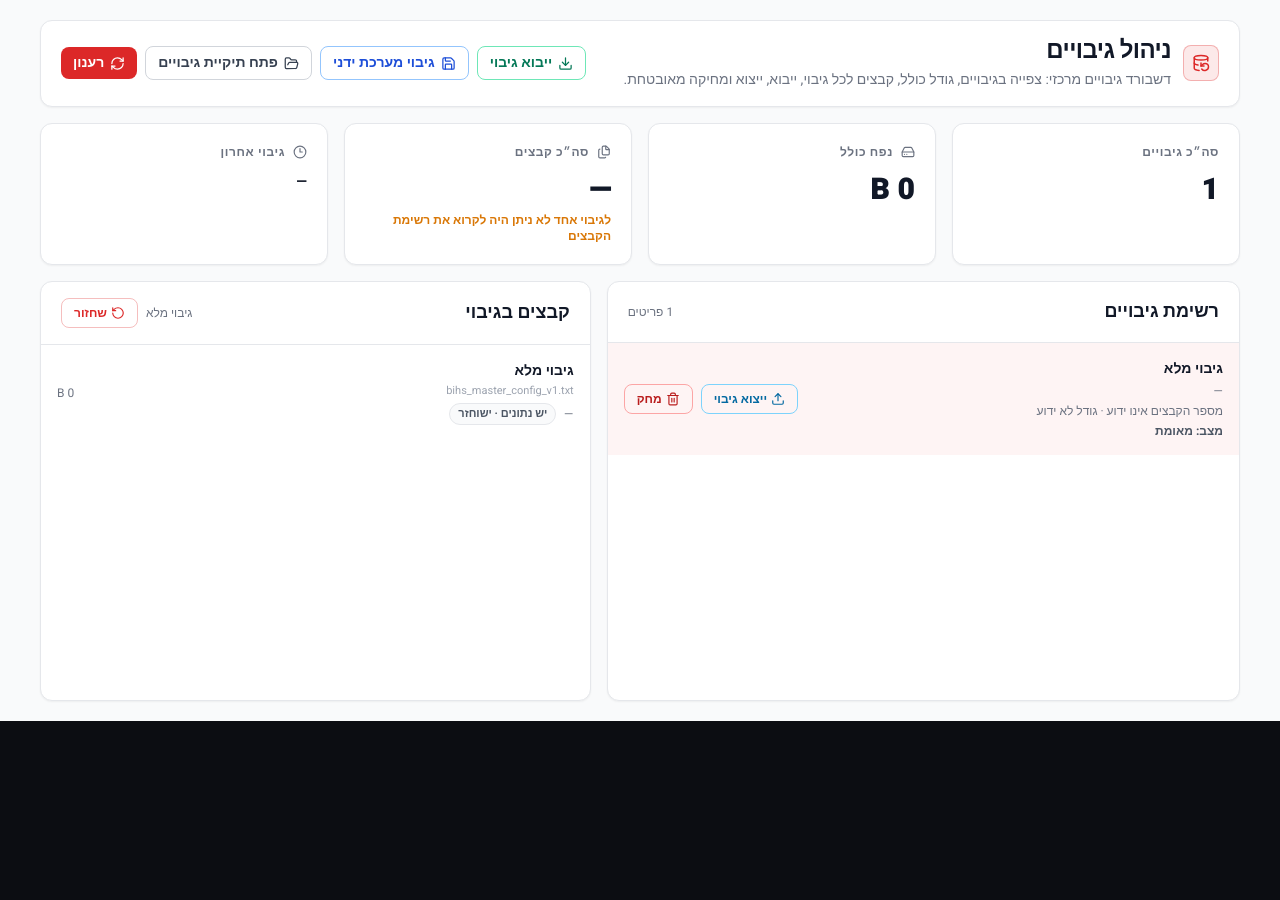
Test: AdminBackupManagement › does not reopen a restore modal after it was closed while payload hydration was pending
Expected: the text "1 פריטים" is shown, [628,304,673,320]
Step 1. Click the button with aria-label "בחר גיבוי מלא" → click(1193, 368), box [608,343,1239,455]
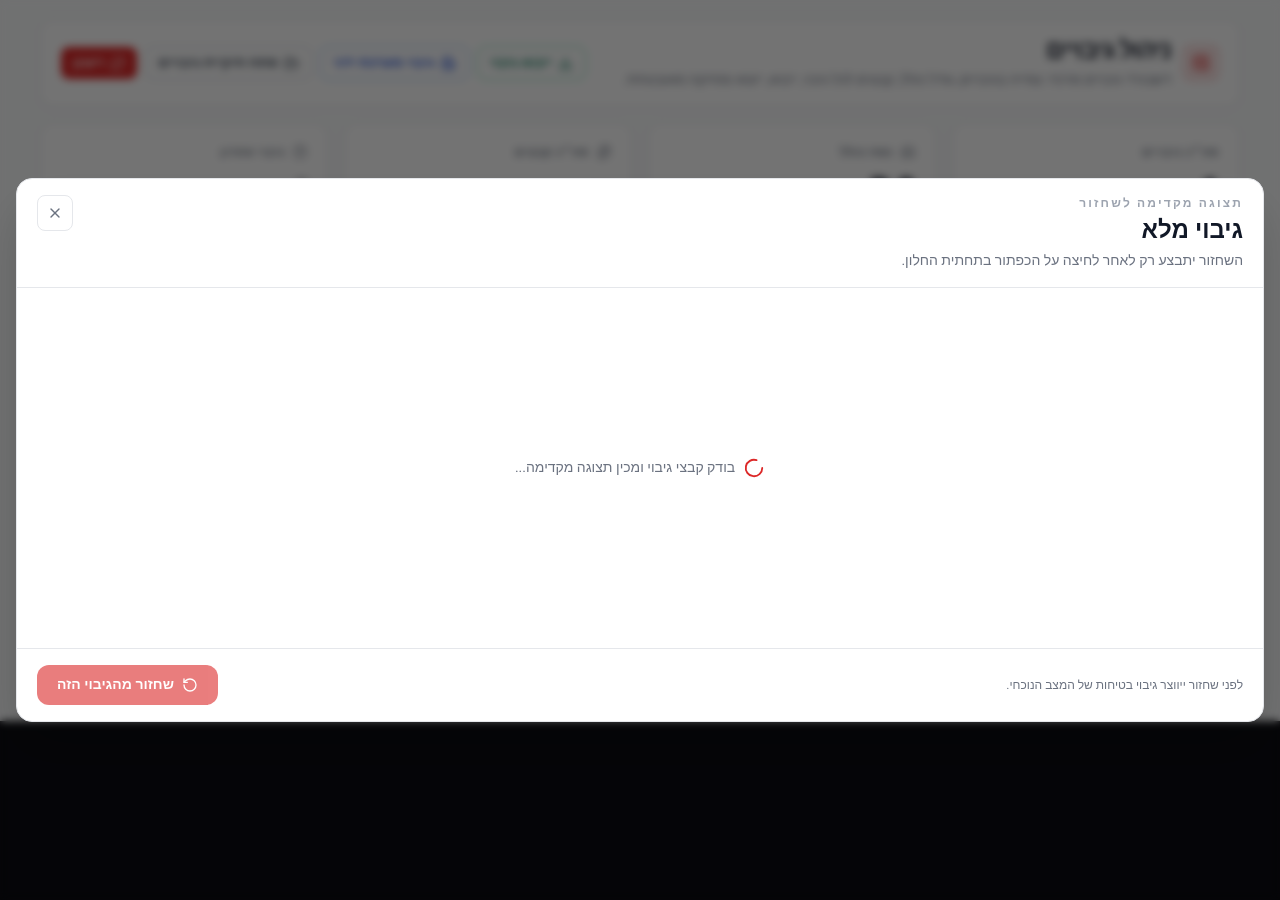
Result: the text "תצוגה מקדימה לשחזור" is shown at [1079,194,1243,212]
Step 2. Click the button named "סגור חלון שחזור" → click(55, 213), box [37,195,73,231]
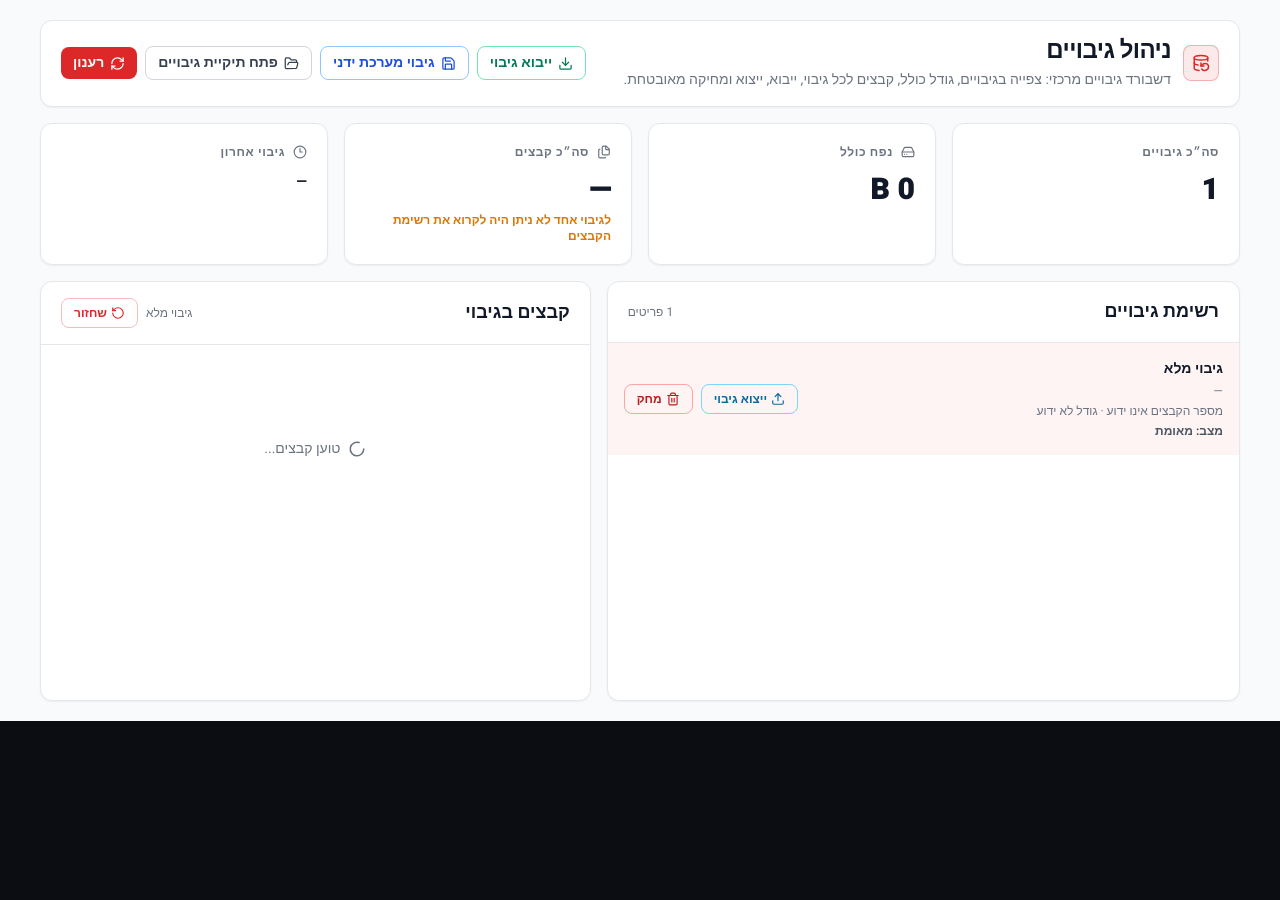
Result: the text "תצוגה מקדימה לשחזור" is gone
